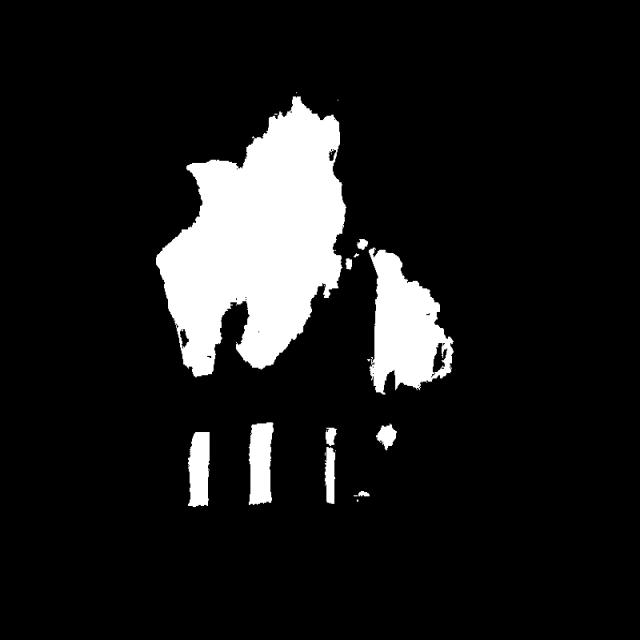fire: (110, 80, 466, 576)
